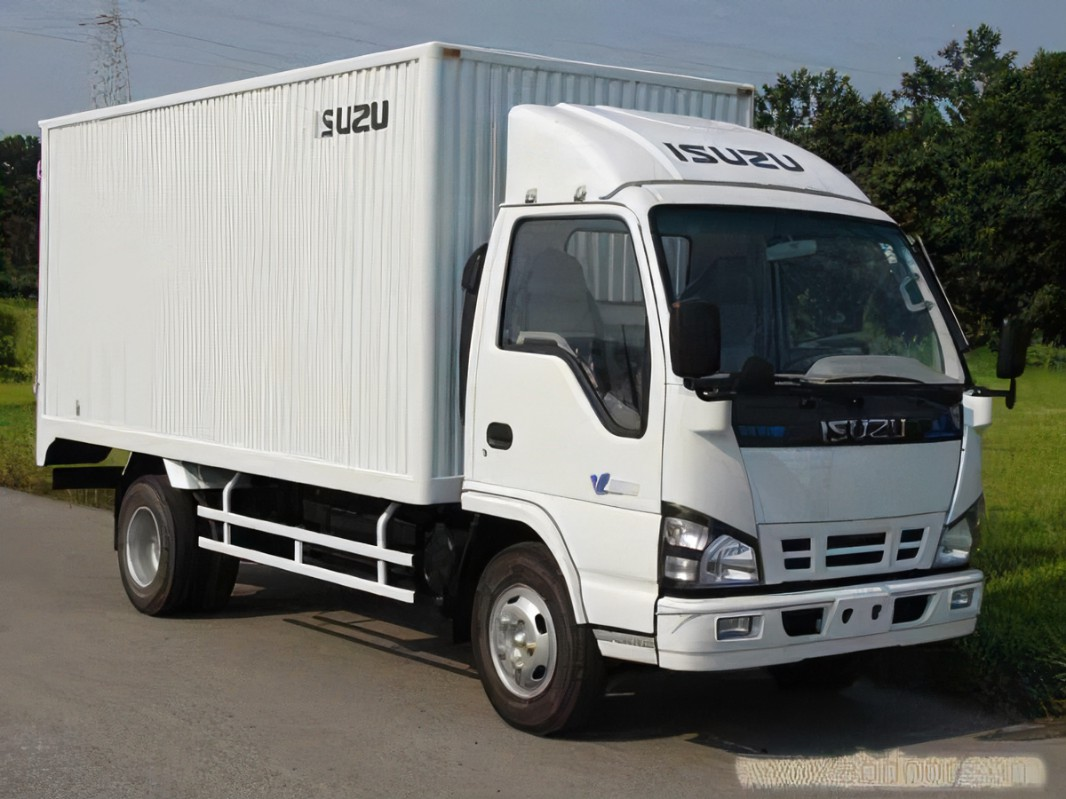smalltruck: (20, 51, 1000, 732)
